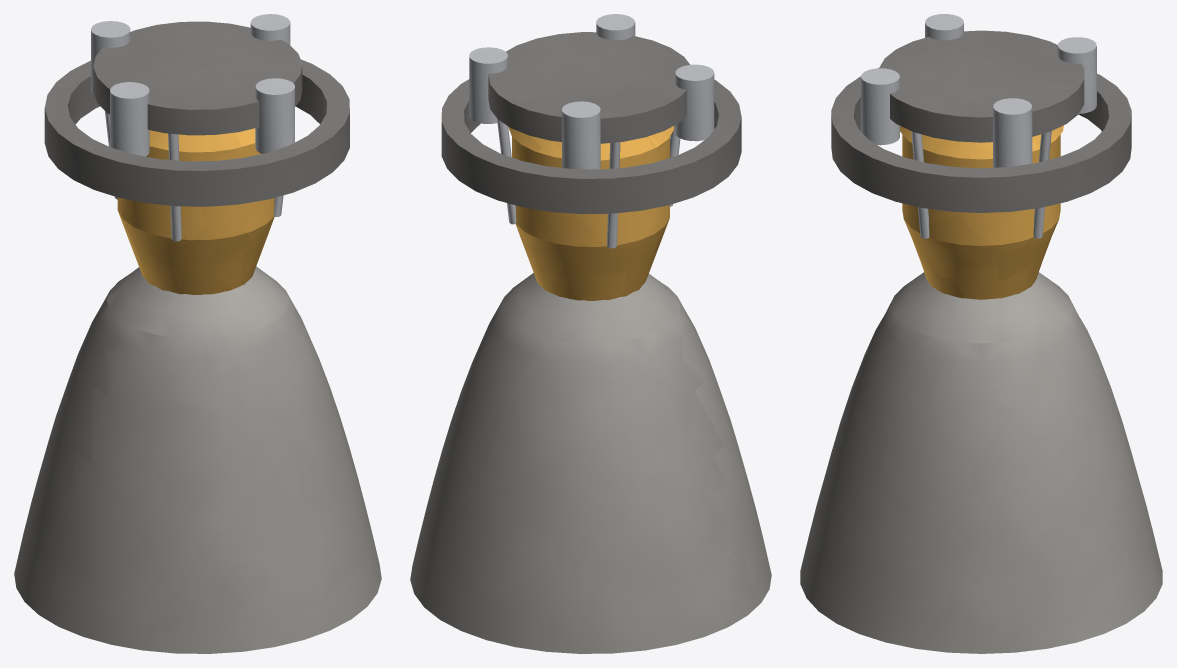
File: prop19_descent_engine_s.glb
The picture shows the model from 3 angles, left to right: view 1: azimuth 30°, elevation 25°; view 2: azimuth 150°, elevation 25°; view 3: azimuth 270°, elevation 25°; orthographic projection.
Visible parts, largest first — view 1: bell, gimbal_ring, mount, chamber, throttle_valves, injector_dome, thrust_struts; view 2: bell, mount, gimbal_ring, chamber, throttle_valves, injector_dome, thrust_struts; view 3: bell, gimbal_ring, mount, chamber, throttle_valves, injector_dome, thrust_struts.
Part boxes in pixels (x1=…): bell: x1=14, y1=266, x2=381, y2=653; gimbal_ring: x1=44, y1=59, x2=349, y2=206; mount: x1=93, y1=21, x2=302, y2=135; chamber: x1=117, y1=143, x2=274, y2=294; throttle_valves: x1=91, y1=14, x2=294, y2=156; injector_dome: x1=149, y1=128, x2=255, y2=152; thrust_struts: x1=105, y1=111, x2=283, y2=241; bell: x1=410, y1=273, x2=771, y2=653; mount: x1=488, y1=32, x2=689, y2=143; gimbal_ring: x1=441, y1=79, x2=741, y2=214; chamber: x1=512, y1=136, x2=669, y2=300; throttle_valves: x1=469, y1=14, x2=714, y2=169; injector_dome: x1=508, y1=126, x2=673, y2=160; thrust_struts: x1=497, y1=118, x2=680, y2=248; bell: x1=800, y1=272, x2=1162, y2=653; gimbal_ring: x1=831, y1=68, x2=1131, y2=212; mount: x1=879, y1=30, x2=1084, y2=142; chamber: x1=902, y1=134, x2=1060, y2=299; throttle_valves: x1=861, y1=14, x2=1096, y2=167; injector_dome: x1=900, y1=125, x2=1063, y2=159; thrust_struts: x1=911, y1=131, x2=1051, y2=238.
Size of the model in its own units: 0.7175 by 1.12 by 0.717.
4 materials, 4 textured.
